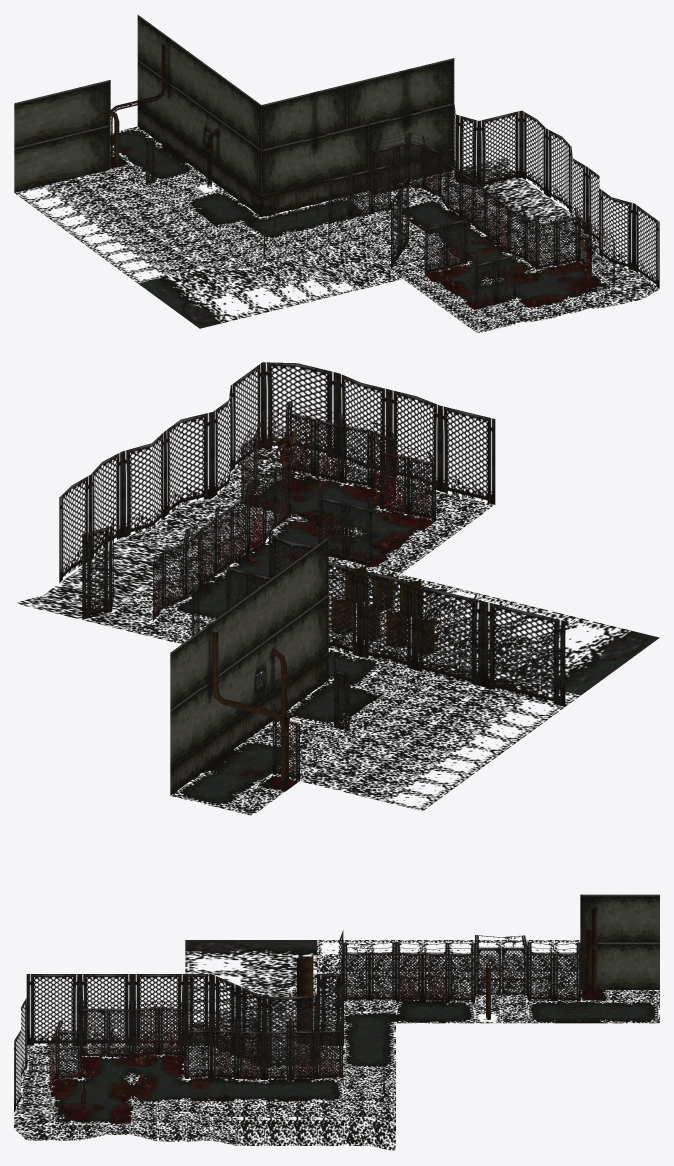
The model's file is THRF905.glb.
The picture shows the model from 3 angles, top to bottom: view 1: azimuth 30°, elevation 25°; view 2: azimuth 150°, elevation 25°; view 3: azimuth 270°, elevation 25°; orthographic projection. The views are drawn at different scales.
Parts seen in each view (by area): view 1: W6_2_2_B_m0, W1_BACK2_m0, THRW6_1_m0, F1_BACK_m0, F2_BACK2_m0, THRW6_1_m1, THRW6_3_m0, THRW6_2_m0, THRW6_3_m1, W6_1_5_B_m0, FC2_BACK_m0, THEW6_4_m0 (+9 smaller); view 2: W6_2_2_B_m0, THRW6_1_m0, W6_2_4_F_m0, FC_BACK2_m0, F1_BACK_m0, F2_BACK2_m0, FC2_BACK_m0, THEW6_4_m0, W6_1_5_B_m0, THRW6_3_m1, F6_BACK2_m0, THRW6_3_m0 (+10 smaller); view 3: W6_2_2_B_m0, F1_BACK_m0, F2_BACK2_m0, FC5_BACK_m0, THEW6_4_m1, THRW6_1_m1, THRW6_1_m0, W6_3_5_F_m0, THRW6_3_m0, W6_2_3_N_m0, F6_BACK2_m0, W6_1_5_B_m0 (+9 smaller).
Boxes of the visible parts, x1,y1,x2,y2 form: W6_2_2_B_m0: (76, 199, 402, 328); W1_BACK2_m0: (304, 58, 454, 206); THRW6_1_m0: (137, 15, 236, 198); F1_BACK_m0: (380, 214, 658, 332); F2_BACK2_m0: (306, 158, 570, 260); THRW6_1_m1: (14, 80, 110, 192); THRW6_3_m0: (328, 132, 485, 234); THRW6_2_m0: (236, 87, 304, 216); THRW6_3_m1: (454, 104, 571, 212); W6_1_5_B_m0: (15, 164, 193, 237); FC2_BACK_m0: (571, 148, 659, 288); THEW6_4_m0: (484, 180, 614, 287); W6_2_2_B_m0: (297, 574, 659, 752); THRW6_1_m0: (170, 560, 351, 795); W6_2_4_F_m0: (328, 562, 565, 706); FC_BACK2_m0: (262, 362, 495, 504); F1_BACK_m0: (124, 448, 492, 596); F2_BACK2_m0: (17, 537, 356, 644); FC2_BACK_m0: (122, 362, 262, 537); THEW6_4_m0: (231, 401, 395, 563); W6_1_5_B_m0: (275, 716, 501, 811); THRW6_3_m1: (59, 452, 122, 619); F6_BACK2_m0: (171, 703, 350, 815); THRW6_3_m0: (153, 494, 284, 636); W6_2_2_B_m0: (185, 940, 449, 1045); F1_BACK_m0: (14, 1045, 238, 1145); F2_BACK2_m0: (237, 1045, 395, 1150); FC5_BACK_m0: (26, 974, 237, 1055); THEW6_4_m1: (55, 1000, 237, 1078); THRW6_1_m1: (580, 894, 659, 989); THRW6_1_m0: (448, 935, 580, 1001); W6_3_5_F_m0: (238, 974, 343, 1067); THRW6_3_m0: (238, 1020, 384, 1095); W6_2_3_N_m0: (343, 942, 449, 1001); F6_BACK2_m0: (448, 990, 659, 1023); W6_1_5_B_m0: (449, 940, 580, 1001).
Size of the model in its own units: 19 by 5 by 24.52.
Materials: 22 (22 with a texture image).
